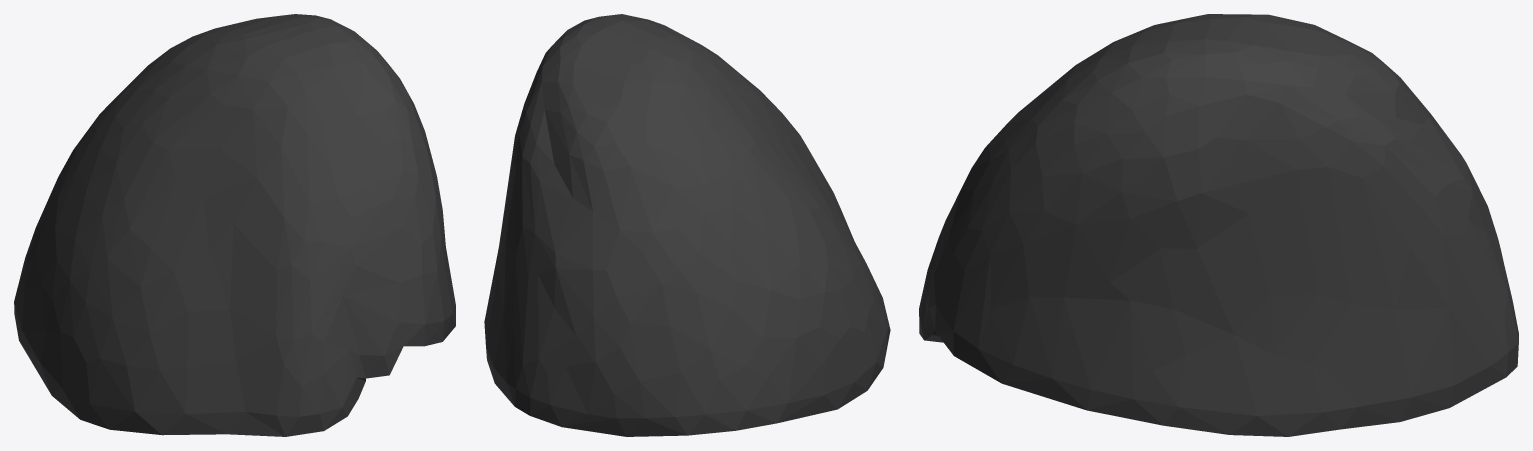
Rendered from Patella_apex.glb.
3 renders of one model, left to right at view 1: azimuth 30°, elevation 25°; view 2: azimuth 150°, elevation 25°; view 3: azimuth 270°, elevation 25°, orthographic. The views are drawn at different scales.
Parts seen in each view (by area): view 1: Patella_apex; view 2: Patella_apex; view 3: Patella_apex.
Part boxes in pixels (x1,y1,x2,y2): Patella_apex: [14, 14, 455, 436]; Patella_apex: [484, 14, 890, 436]; Patella_apex: [919, 14, 1518, 436].
Bounding box in the file's own units: 0.0127 × 0.0112 × 0.0153.
1 material, 1 textured.
